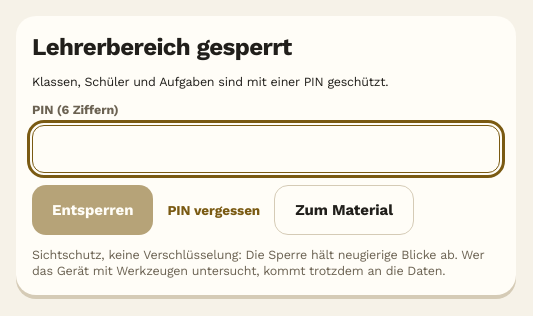
PinLockScreen › nimmt nur Ziffern an und gibt erst bei 6 Ziffern frei
The width and height of the screenshot is (533, 316).
Step 1. Type "12ab34" into the password field labelled "PIN (6 Ziffern)" → [266, 149], box x1=32 y1=125 x2=500 y2=173
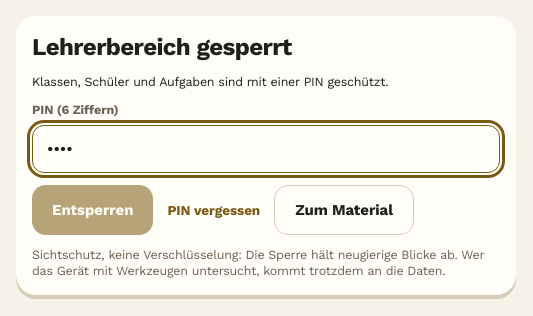
expect the button "Entsperren" is disabled: met, box x1=32 y1=185 x2=153 y2=235
expect the password field labelled "PIN (6 Ziffern)" holds "1234": met
Step 2. Type "56" into the password field labelled "PIN (6 Ziffern)" → [266, 149], box x1=32 y1=125 x2=500 y2=173
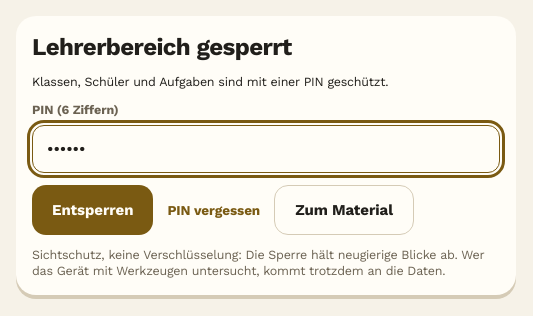
expect the button "Entsperren" is enabled: met
Step 3. Click the button "Entsperren" → [93, 210], box x1=32 y1=185 x2=153 y2=235
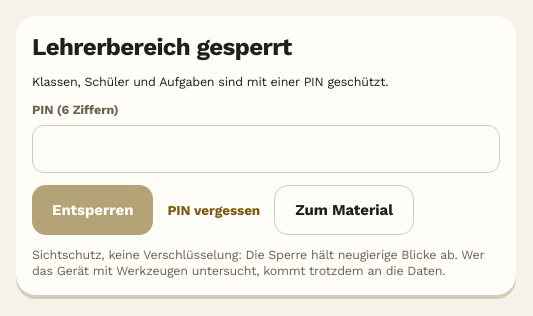
expect the password field labelled "PIN (6 Ziffern)" is empty: met, box x1=32 y1=125 x2=500 y2=173
